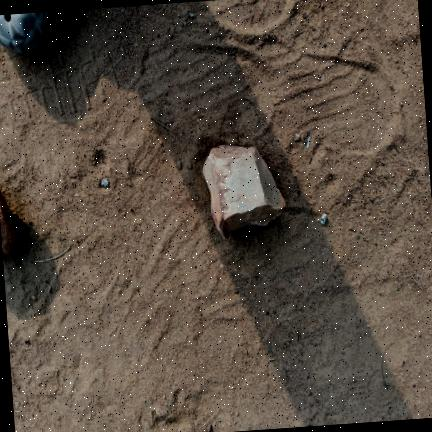Rocks: (203, 145, 285, 238), (0, 189, 17, 258)
